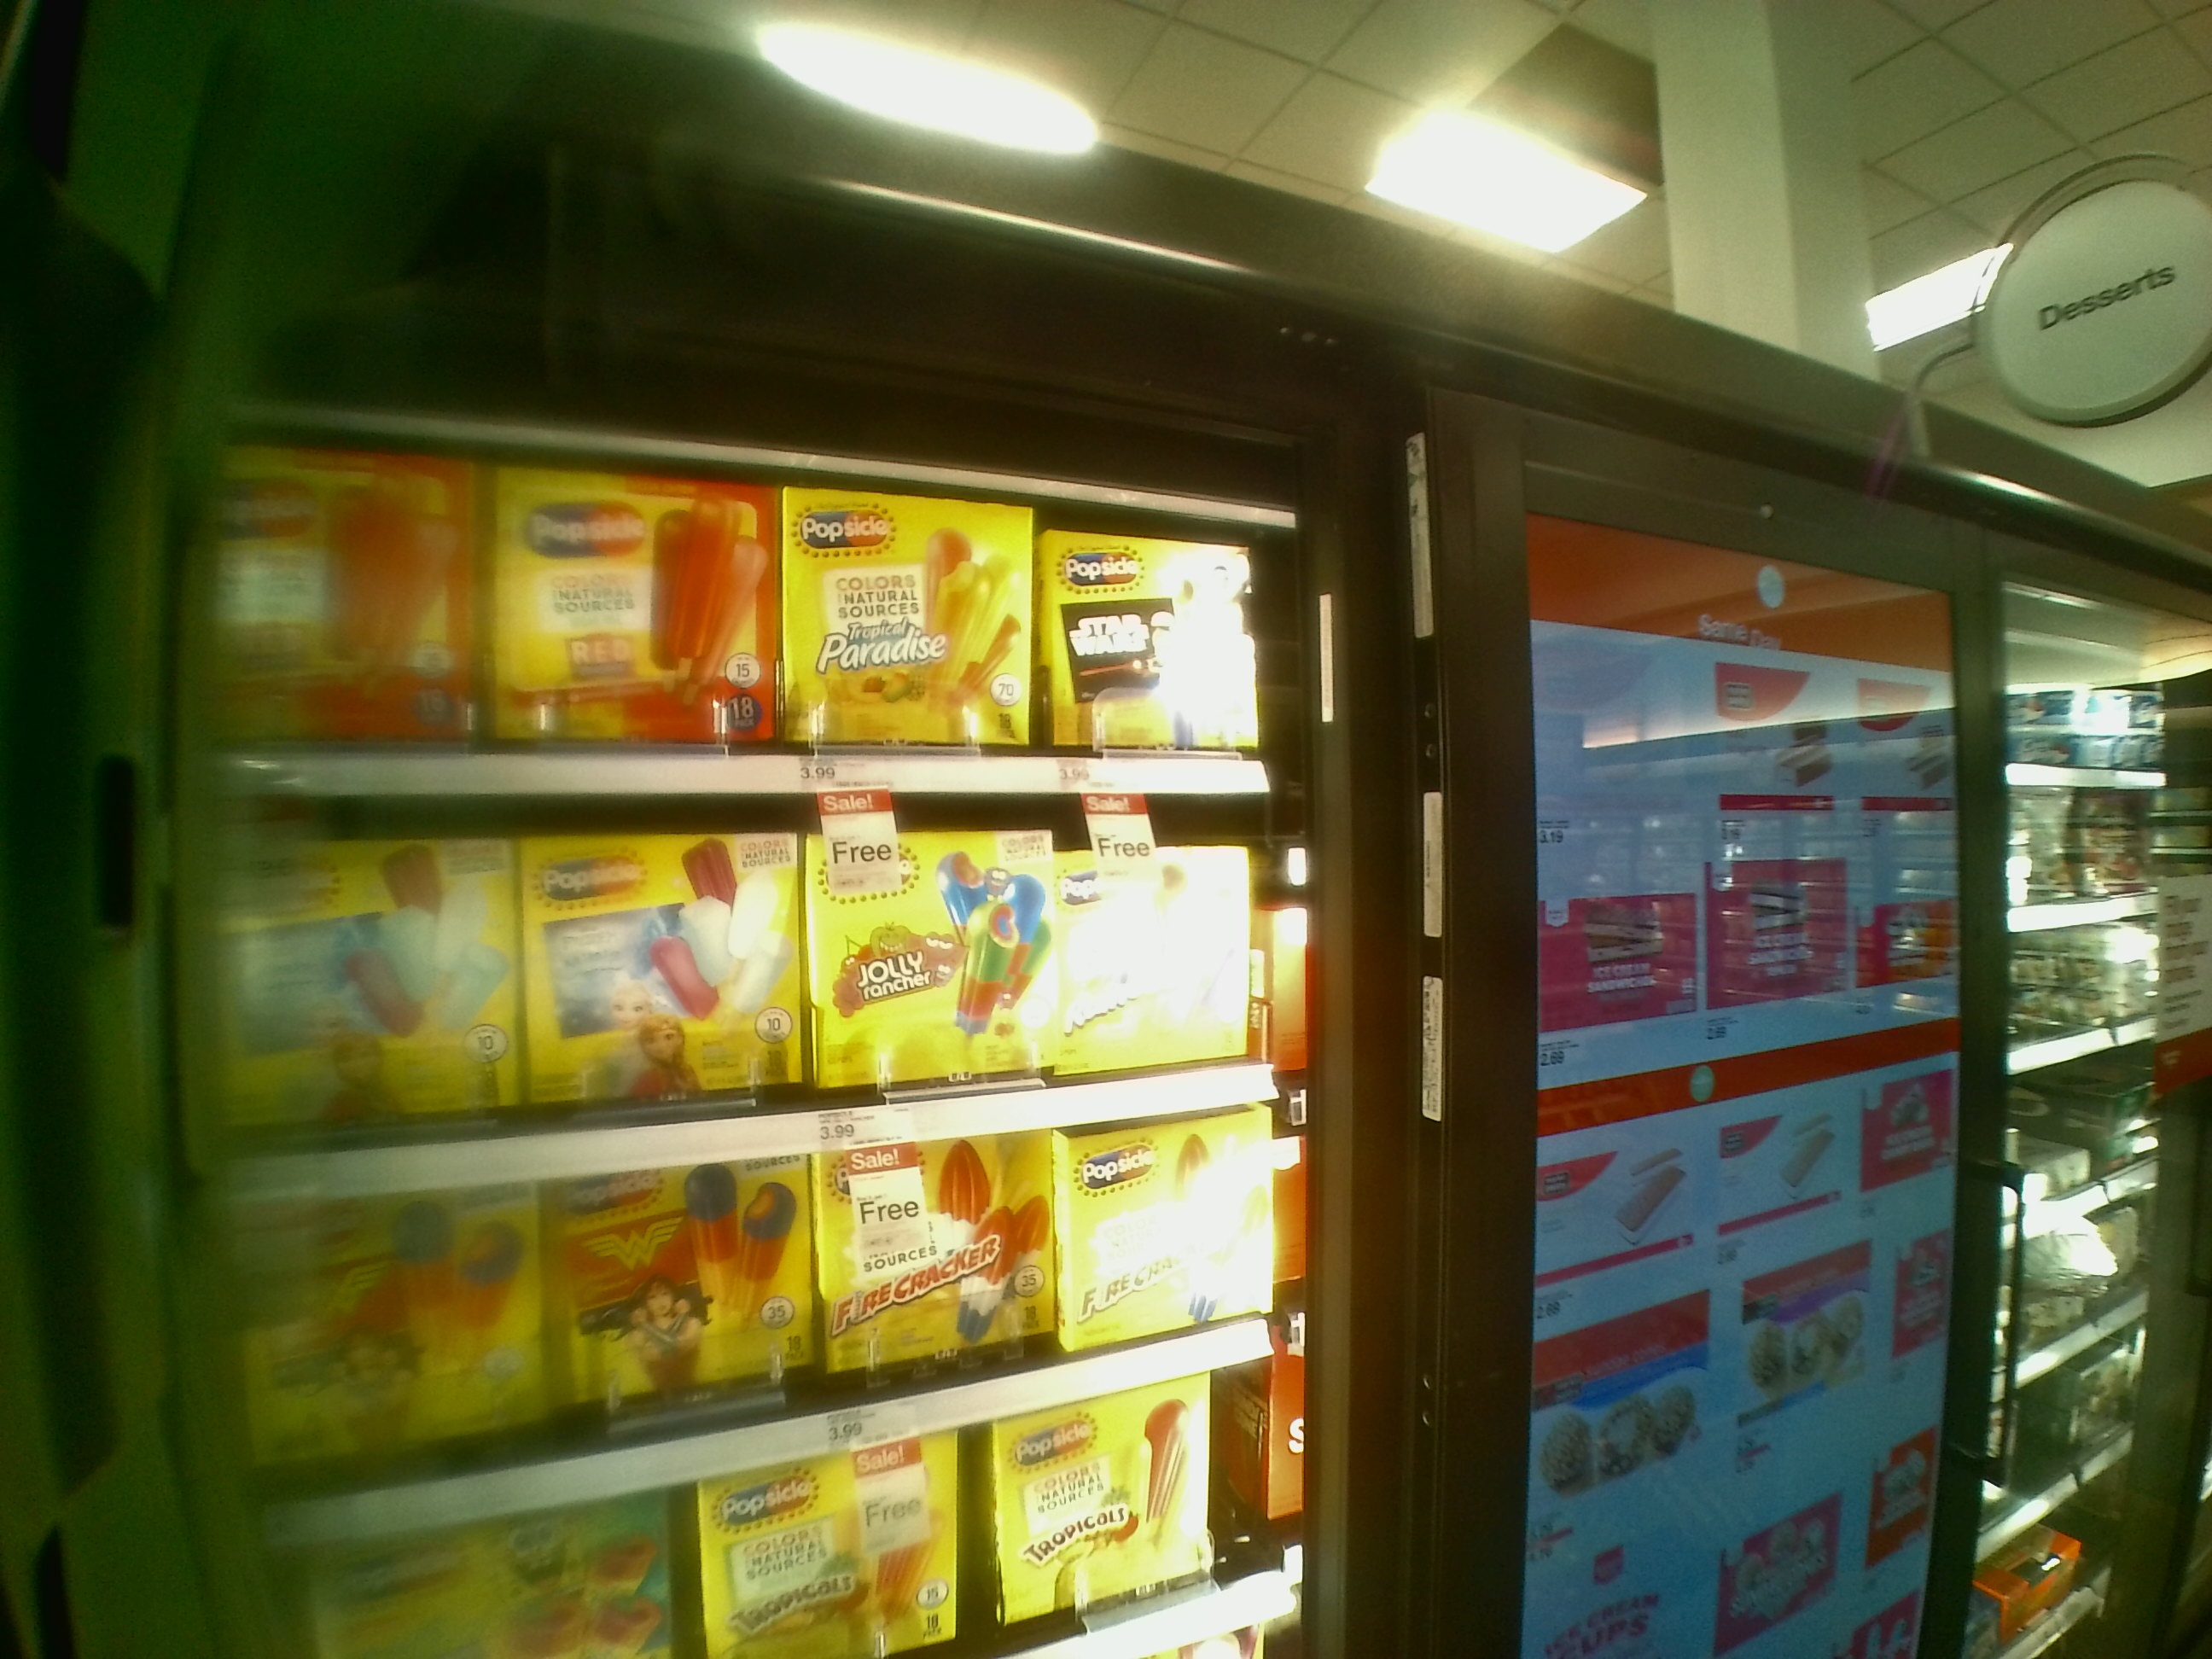shelf: (212, 396, 1294, 789), (268, 1119, 1294, 1457), (207, 809, 1278, 1114)
